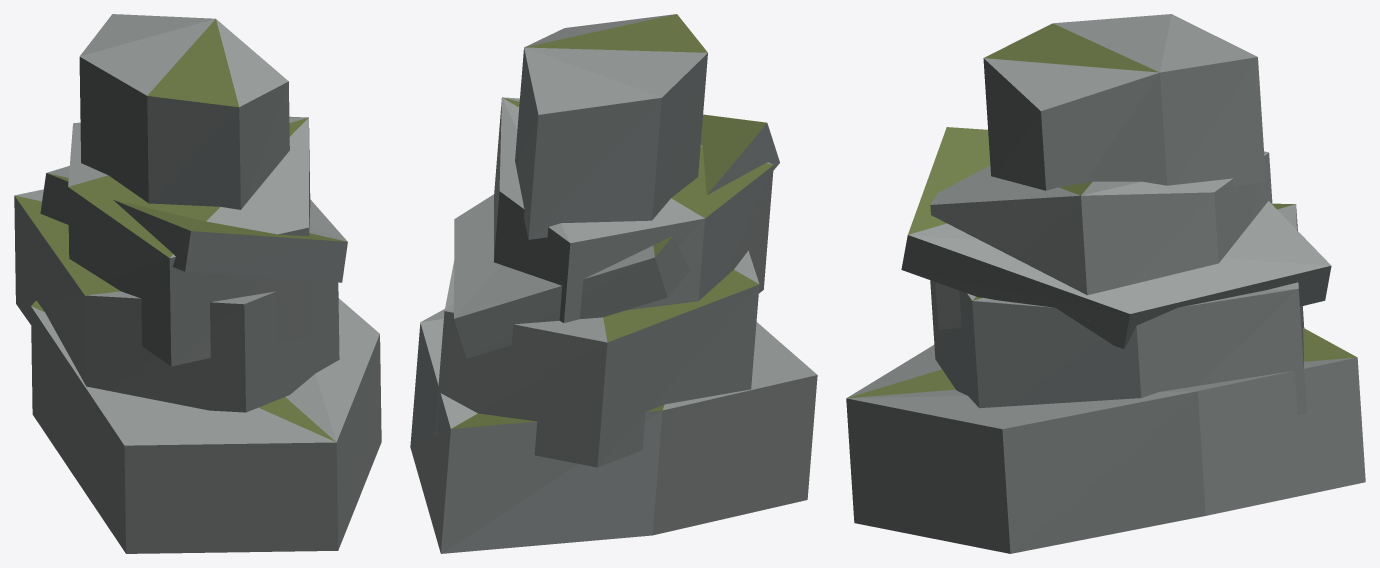
The model's file is rock.block__outcrop__spring.glb.
The picture shows the model from 3 angles, left to right: view 1: azimuth 30°, elevation 25°; view 2: azimuth 150°, elevation 25°; view 3: azimuth 270°, elevation 25°; orthographic projection. The views are drawn at different scales.
Visible parts, largest first — view 1: rock.block; view 2: rock.block; view 3: rock.block.
Boxes of the visible parts, left/top/right/bottom form: rock.block: left=14, top=14, right=381, bottom=553; rock.block: left=410, top=14, right=817, bottom=553; rock.block: left=846, top=14, right=1365, bottom=553.
Size of the model in its own units: 1.3 by 1.94 by 1.95.
